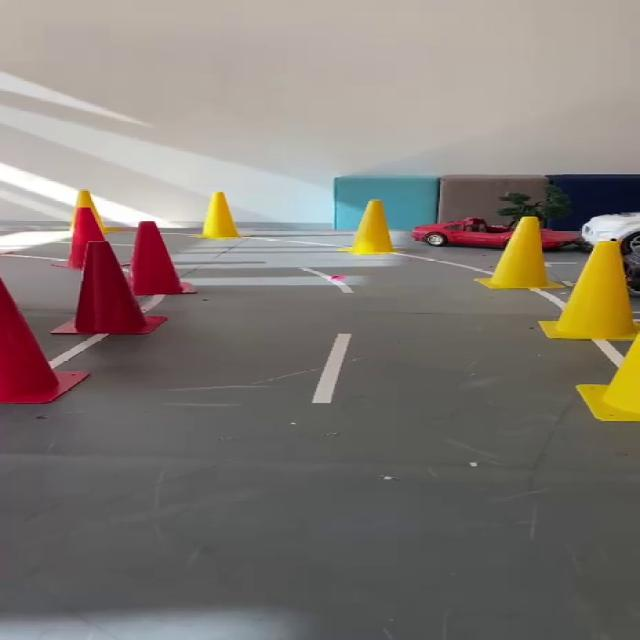Cone-red: (0, 277, 88, 403), (59, 240, 159, 333), (130, 222, 194, 295), (69, 208, 103, 268)
Cones-yellow: (539, 241, 639, 422), (479, 216, 554, 288), (345, 201, 394, 255), (203, 192, 240, 239), (74, 191, 106, 232)
